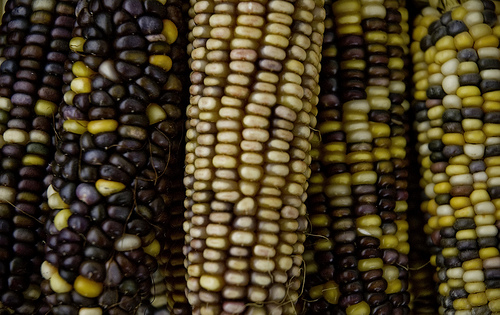corn: (177, 0, 323, 314), (42, 0, 173, 314), (309, 2, 412, 314), (413, 0, 499, 314), (0, 0, 72, 313)
